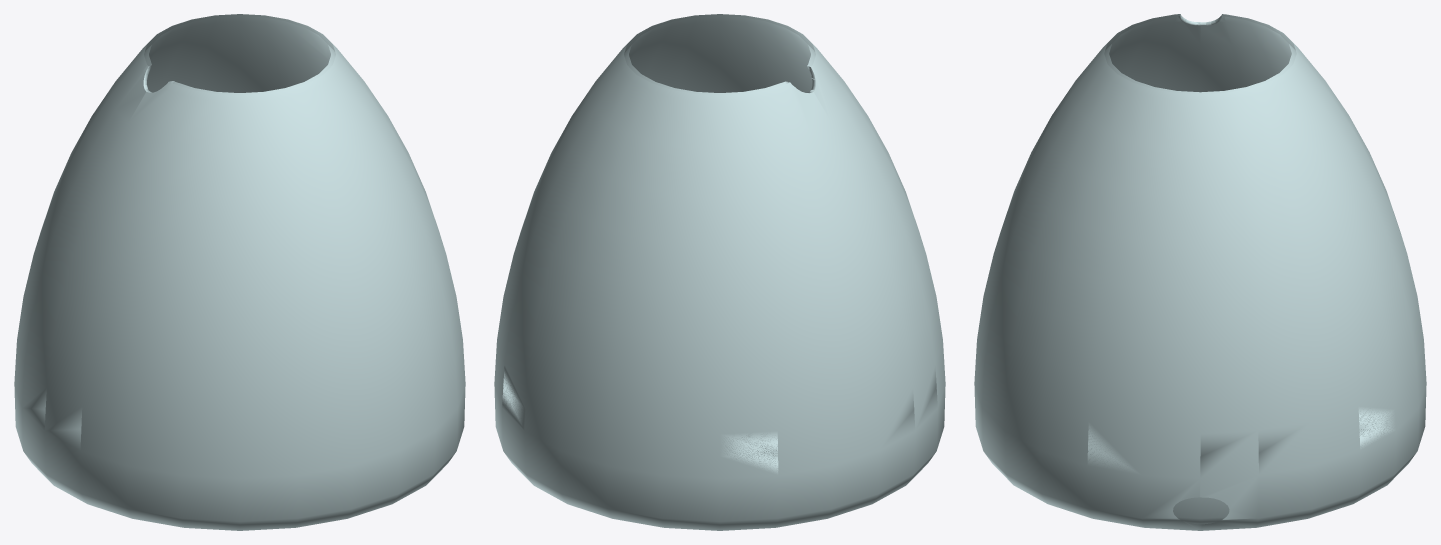
Rendered from coffee.fbx.
3 renders of one model, left to right at view 1: azimuth 30°, elevation 25°; view 2: azimuth 150°, elevation 25°; view 3: azimuth 270°, elevation 25°, orthographic.
Visible parts, largest first — view 1: SketchUp; view 2: SketchUp; view 3: SketchUp.
Boxes of the visible parts, x1,y1,x2,y2 form: SketchUp: (14, 14, 465, 530); SketchUp: (494, 14, 945, 530); SketchUp: (974, 14, 1426, 530).
Bounding box in the file's own units: 14.79 × 14.73 × 14.79.
